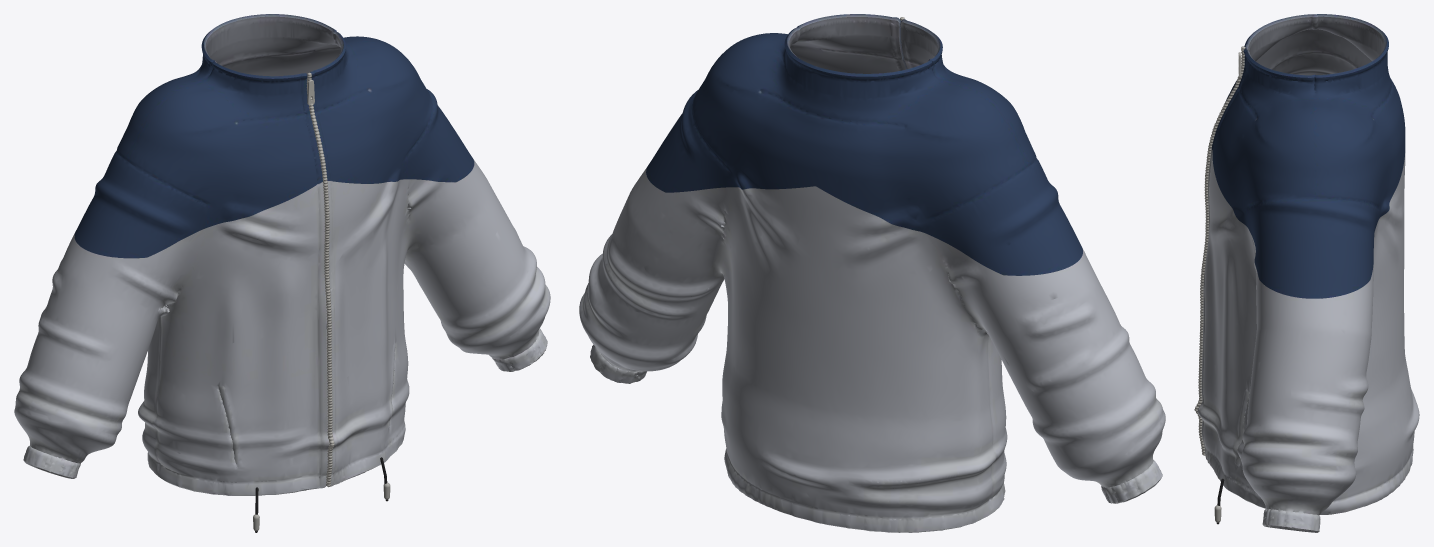
The model's file is 07_cortavientos_pbr.glb.
3 renders of one model, left to right at view 1: azimuth 30°, elevation 25°; view 2: azimuth 150°, elevation 25°; view 3: azimuth 270°, elevation 25°, orthographic. The views are drawn at different scales.
Parts seen in each view (by area): view 1: Camiseta PBR, Cremallera; view 2: Camiseta PBR; view 3: Camiseta PBR, Cremallera.
Part boxes in pixels (bbox=[...]): Camiseta PBR: bbox=[14, 14, 550, 495]; Cremallera: bbox=[306, 72, 334, 486]; Camiseta PBR: bbox=[579, 14, 1165, 532]; Camiseta PBR: bbox=[1197, 14, 1419, 532]; Cremallera: bbox=[1194, 46, 1245, 455].
Bounding box in the file's own units: 1.02 × 0.8174 × 0.3714.
4 materials, 1 textured.
